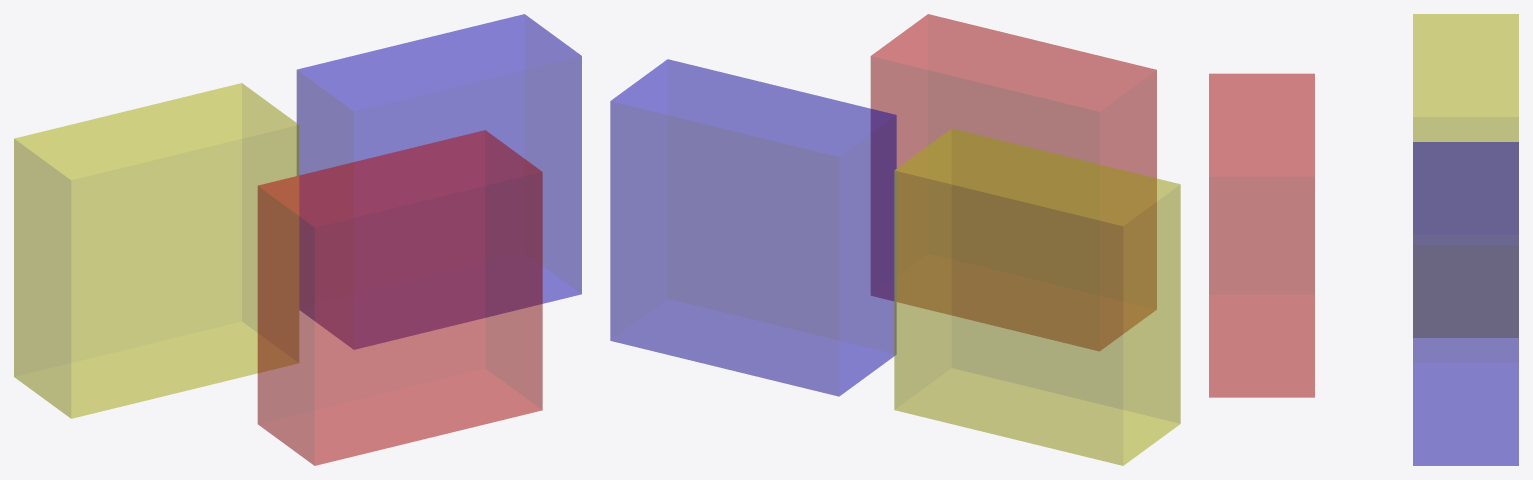
The picture shows the model from 3 angles, left to right: view 1: azimuth 30°, elevation 25°; view 2: azimuth 150°, elevation 25°; view 3: azimuth 270°, elevation 25°; orthographic projection. The views are drawn at different scales.
Visible parts, largest first — view 1: Cube, Cube.2, Cube.1; view 2: Cube.1, Cube.2, Cube; view 3: Cube, Cube.2, Cube.1.
Part boxes in pixels (x1=…): Cube: x1=257, y1=130, x2=542, y2=465; Cube.2: x1=14, y1=83, x2=299, y2=418; Cube.1: x1=296, y1=14, x2=581, y2=349; Cube.1: x1=610, y1=59, x2=896, y2=396; Cube.2: x1=894, y1=128, x2=1180, y2=465; Cube: x1=870, y1=14, x2=1156, y2=350; Cube: x1=1209, y1=73, x2=1314, y2=397; Cube.2: x1=1413, y1=14, x2=1518, y2=337; Cube.1: x1=1413, y1=142, x2=1518, y2=465.
Bounding box in the file's own units: 448 × 201 × 254.
